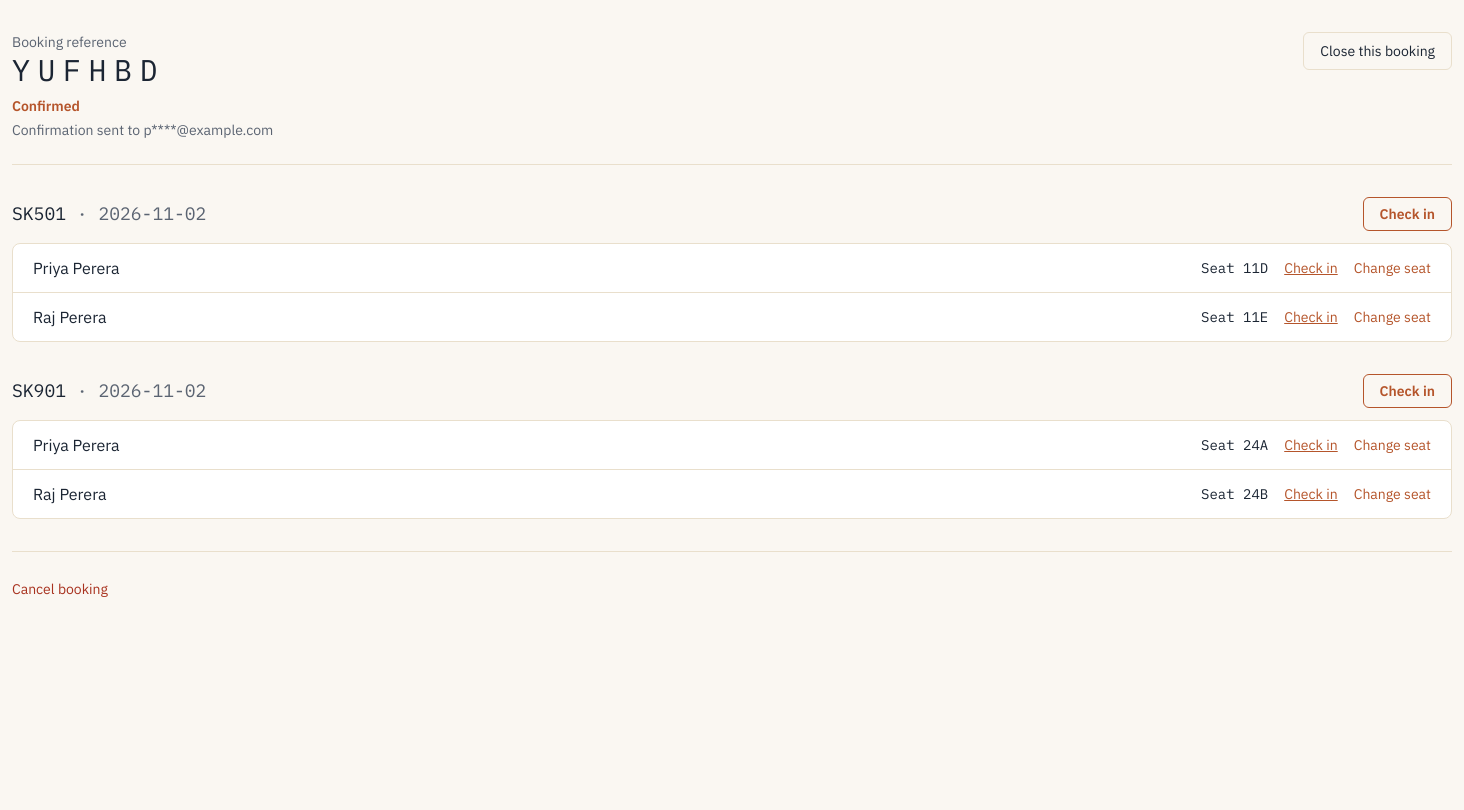
ManageView › checking in › explains when check-in is not open
Click the button with aria-label "Check in for SK501" at (1407, 214), box [1362,197,1452,231]
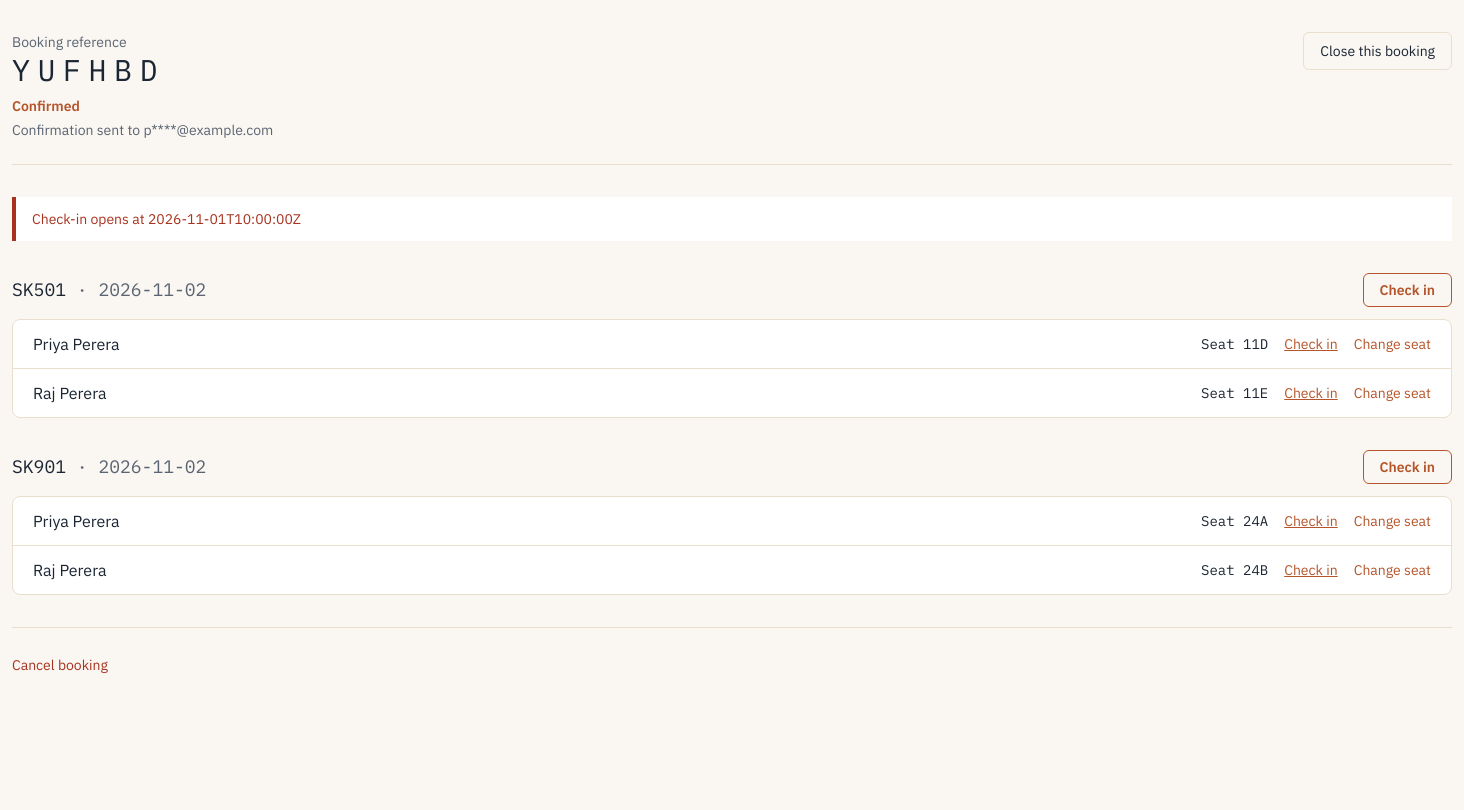
Expected: the message reads "Check-in opens at 2026-11-01T10:00:00Z", [32,210,301,228]
